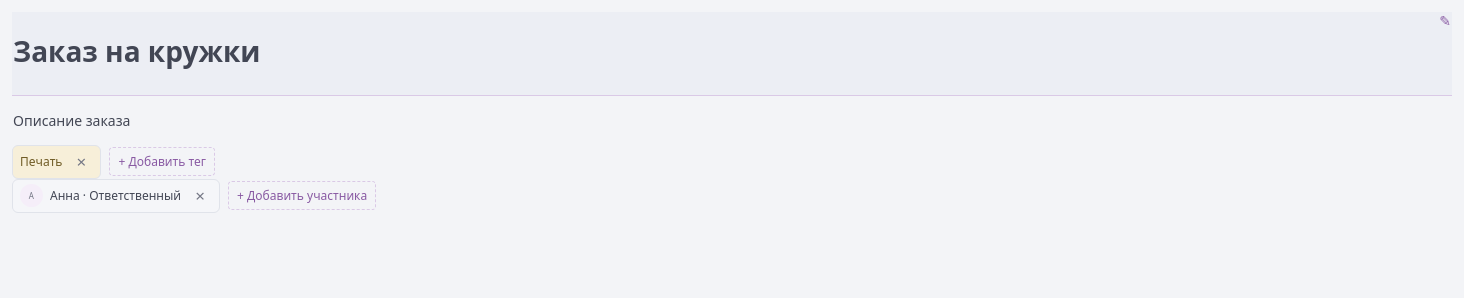
Test: keeps the draft after a conflict and does not overwrite a newer version
Click the heading "Заказ на кружки" at (137, 51), box [13,32,260,70]
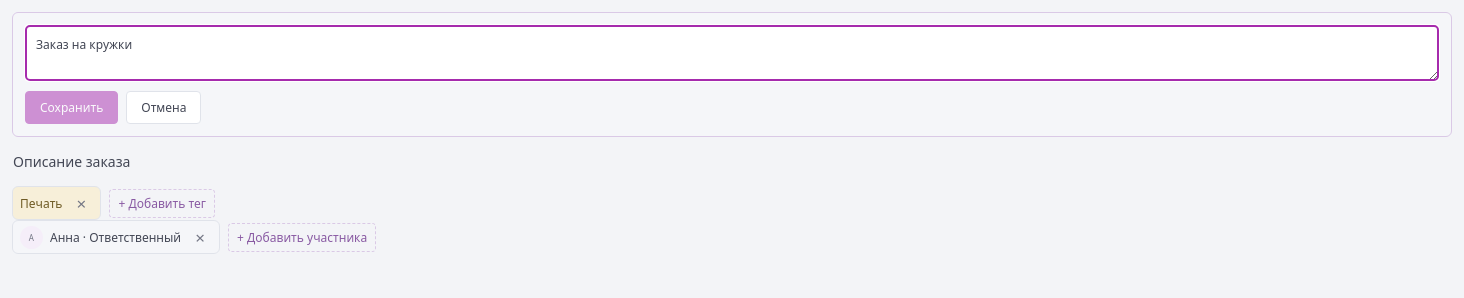
Replace the text in the text box named "Название" with "Мой вариант" at (732, 53), box [25,25,1439,81]
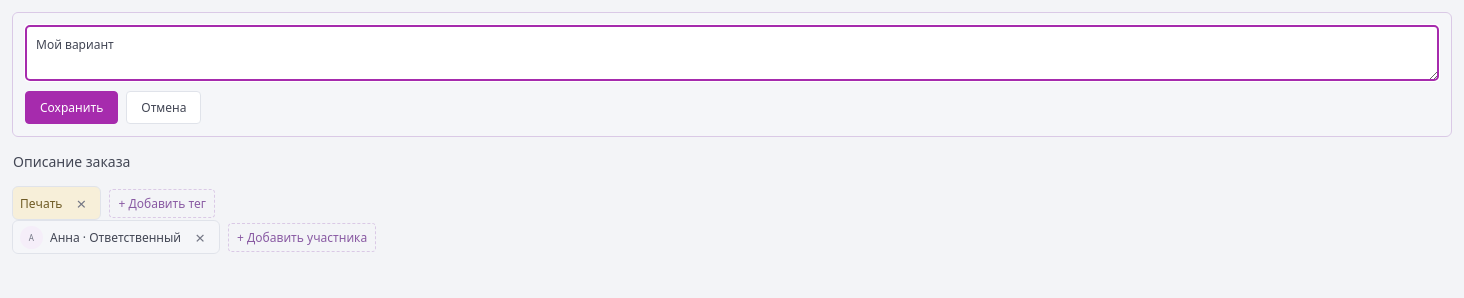
Click the button "Сохранить" at (72, 108), box [25,91,118,124]
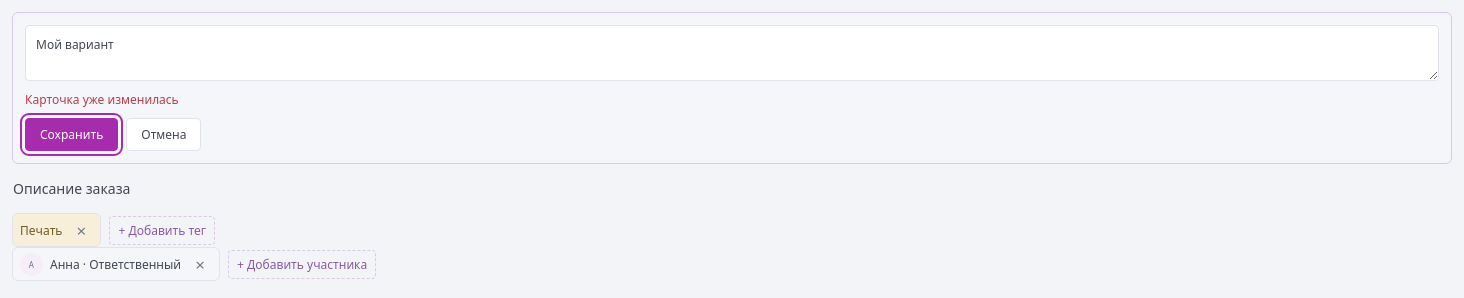
Result: the message reads "Карточка уже изменилась" at [25,91,179,108]
